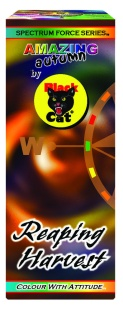Cat: (46, 87, 73, 115)
